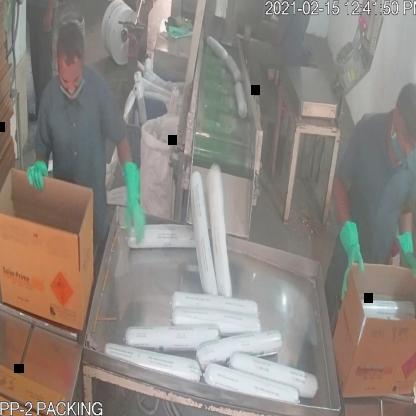glove: (327, 213, 368, 304), (115, 149, 145, 255), (19, 152, 58, 201), (391, 219, 416, 293)
no_glove: (40, 0, 63, 40)
